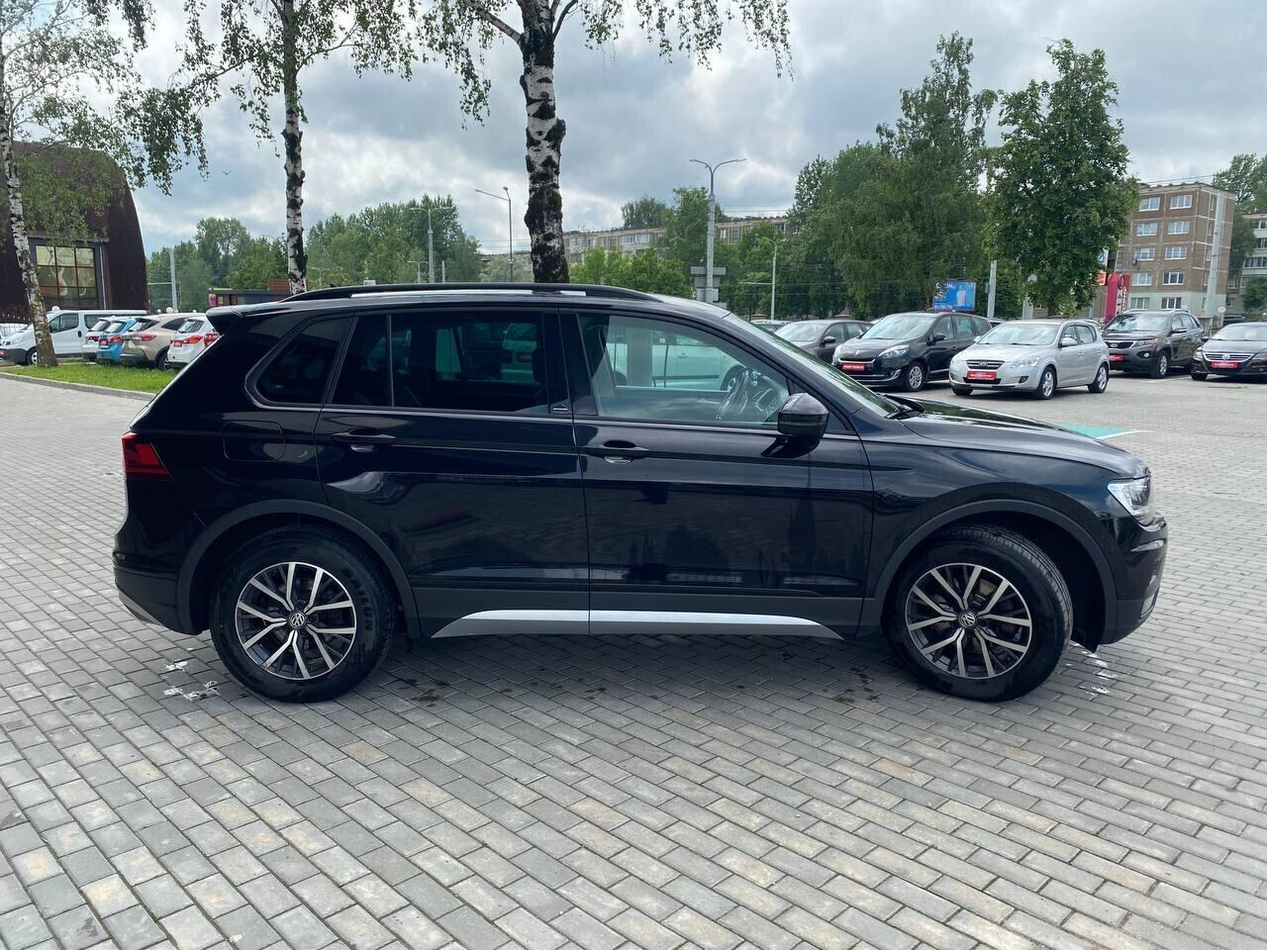Tiguan_2016-2021: (109, 280, 1158, 712)
